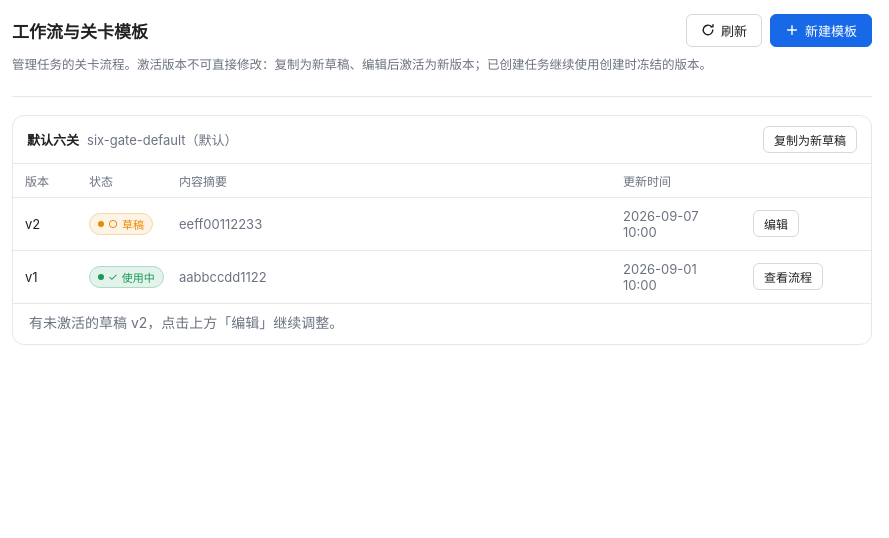
Scenario: 工作流与关卡模板页 › 查看流程：非草稿版本可只读展开关卡定义
Expected: the text "默认六关" is shown, [27,132,79,148]
Click the button "查看流程": (788, 277) [753,263,823,290]
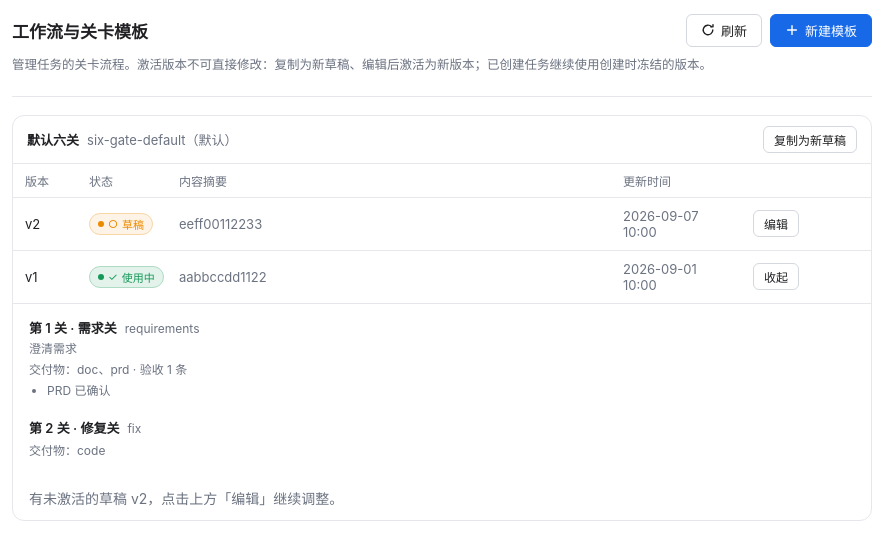
Now the text "第 1 关 · 需求关" is shown, box [29,320,200,336]
Now the text "交付物：doc、prd · 验收 1 条" is shown, box [29,362,187,377]
Now the list item "PRD 已确认" is shown, box [47,383,110,398]
